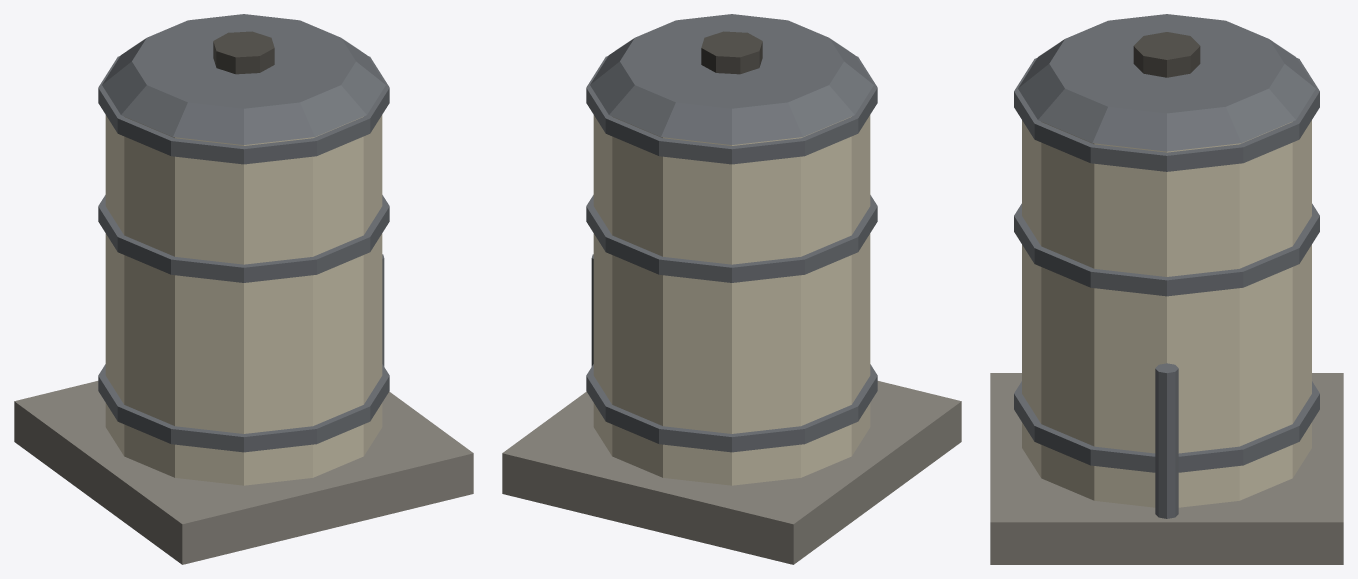
The model's file is prop-rooftop-water-tank.glb.
3 views of the same model, side by side, from view 1: azimuth 30°, elevation 25°; view 2: azimuth 150°, elevation 25°; view 3: azimuth 270°, elevation 25° (orthographic). The views are drawn at different scales.
Visible parts, largest first — view 1: tank, plinth, lid, tank-band, tank-band.001, tank-band.002, fill-cap; view 2: tank, plinth, lid, tank-band, tank-band.001, tank-band.002, fill-cap; view 3: tank, plinth, lid, tank-band.001, tank-band.002, tank-band, outlet, fill-cap.
Boxes of the visible parts, <box> form: tank: <box>105,115,382,485</box>; plinth: <box>14,381,473,564</box>; lid: <box>102,14,385,144</box>; tank-band: <box>98,364,389,452</box>; tank-band.001: <box>98,195,389,282</box>; tank-band.002: <box>98,55,389,164</box>; fill-cap: <box>213,31,274,74</box>; tank: <box>593,115,870,485</box>; plinth: <box>502,381,961,564</box>; lid: <box>590,14,873,144</box>; tank-band: <box>586,364,877,452</box>; tank-band.001: <box>586,195,877,282</box>; tank-band.002: <box>586,55,877,164</box>; fill-cap: <box>701,31,762,74</box>; tank: <box>1022,120,1311,507</box>; plinth: <box>990,373,1343,564</box>; lid: <box>1018,14,1315,151</box>; tank-band.001: <box>1014,203,1319,296</box>; tank-band.002: <box>1014,58,1319,171</box>; tank-band: <box>1014,381,1319,472</box>; outlet: <box>1155,363,1178,518</box>; fill-cap: <box>1133,32,1200,77</box>.
Bounding box in the file's own units: 0.9 × 1.25 × 0.9.
